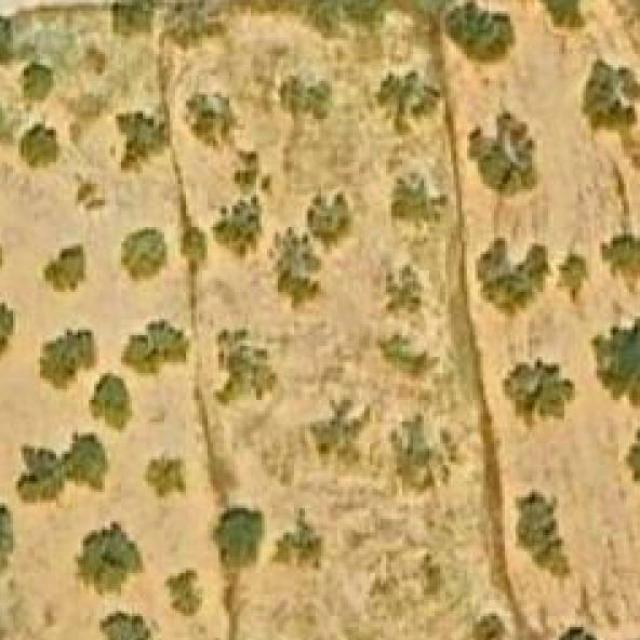Tree: (72, 519, 146, 598), (475, 240, 550, 314), (466, 114, 534, 194), (305, 400, 378, 474), (502, 357, 577, 425), (388, 414, 451, 493), (588, 317, 640, 406), (516, 492, 570, 576), (215, 335, 278, 406), (581, 59, 640, 129), (374, 73, 442, 131), (37, 330, 99, 392), (453, 5, 518, 63), (120, 319, 188, 373), (275, 227, 323, 303), (183, 87, 240, 149), (269, 508, 323, 573), (210, 195, 262, 257), (61, 432, 112, 492), (88, 370, 134, 436), (304, 0, 382, 38), (161, 0, 221, 49), (145, 446, 197, 501), (302, 194, 350, 252), (118, 227, 166, 284), (12, 445, 56, 507), (381, 267, 424, 330), (390, 178, 448, 222), (278, 76, 332, 122), (215, 508, 262, 560), (505, 0, 591, 27), (39, 243, 85, 292), (102, 0, 151, 46), (124, 114, 164, 166), (164, 568, 206, 616), (18, 124, 59, 168), (100, 611, 162, 640), (602, 234, 640, 276), (556, 251, 586, 303), (0, 486, 13, 571), (627, 420, 640, 500), (0, 300, 16, 361), (24, 65, 54, 97), (559, 627, 611, 640), (0, 17, 13, 58)
